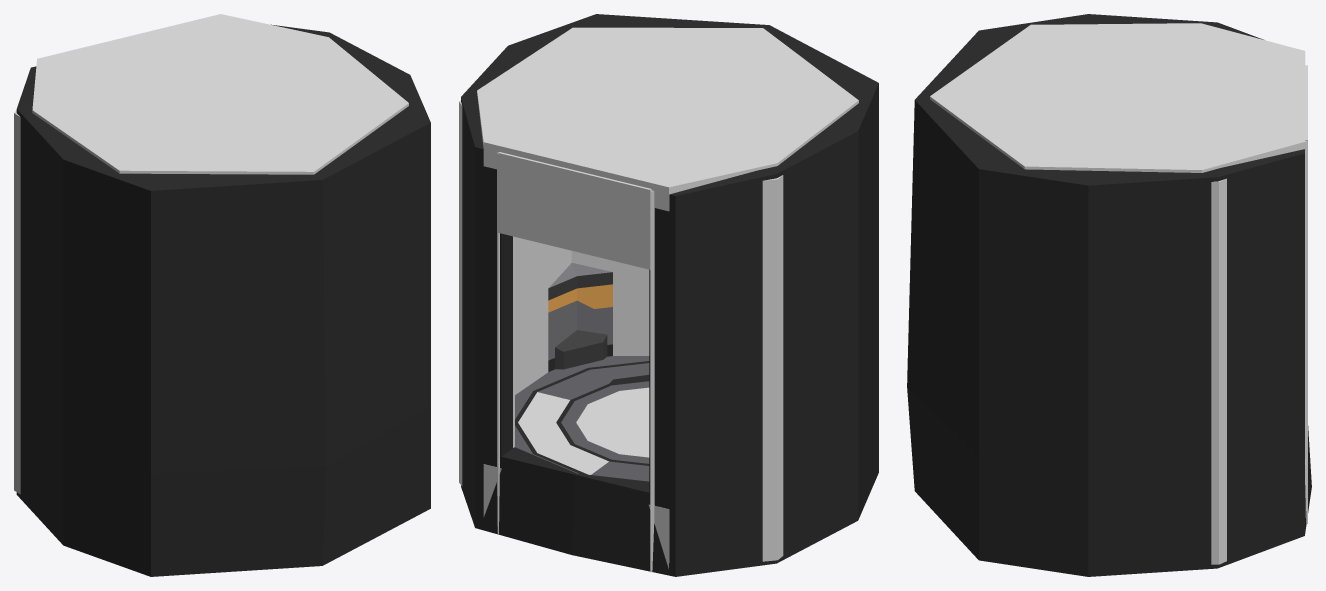
The model's file is SM_Bld_Lift_01.fbx.
3 renders of one model, left to right at view 1: azimuth 30°, elevation 25°; view 2: azimuth 150°, elevation 25°; view 3: azimuth 270°, elevation 25°, orthographic.
Parts seen in each view (by area): view 1: SM_Bld_Lift_01_LOD0, SM_Bld_Lift_01_ConvexHulls; view 2: SM_Bld_Lift_01_LOD0, SM_Bld_Lift_01_ConvexHulls; view 3: SM_Bld_Lift_01_LOD0, SM_Bld_Lift_01_ConvexHulls.
Boxes of the visible parts, x1,y1,x2,y2 form: SM_Bld_Lift_01_LOD0: [16, 24, 430, 576]; SM_Bld_Lift_01_ConvexHulls: [14, 14, 408, 494]; SM_Bld_Lift_01_LOD0: [461, 14, 878, 576]; SM_Bld_Lift_01_ConvexHulls: [459, 27, 858, 572]; SM_Bld_Lift_01_LOD0: [907, 14, 1311, 576]; SM_Bld_Lift_01_ConvexHulls: [930, 23, 1307, 564].
Bounding box in the file's own units: 344 × 345 × 369.
1 material, 1 textured.
